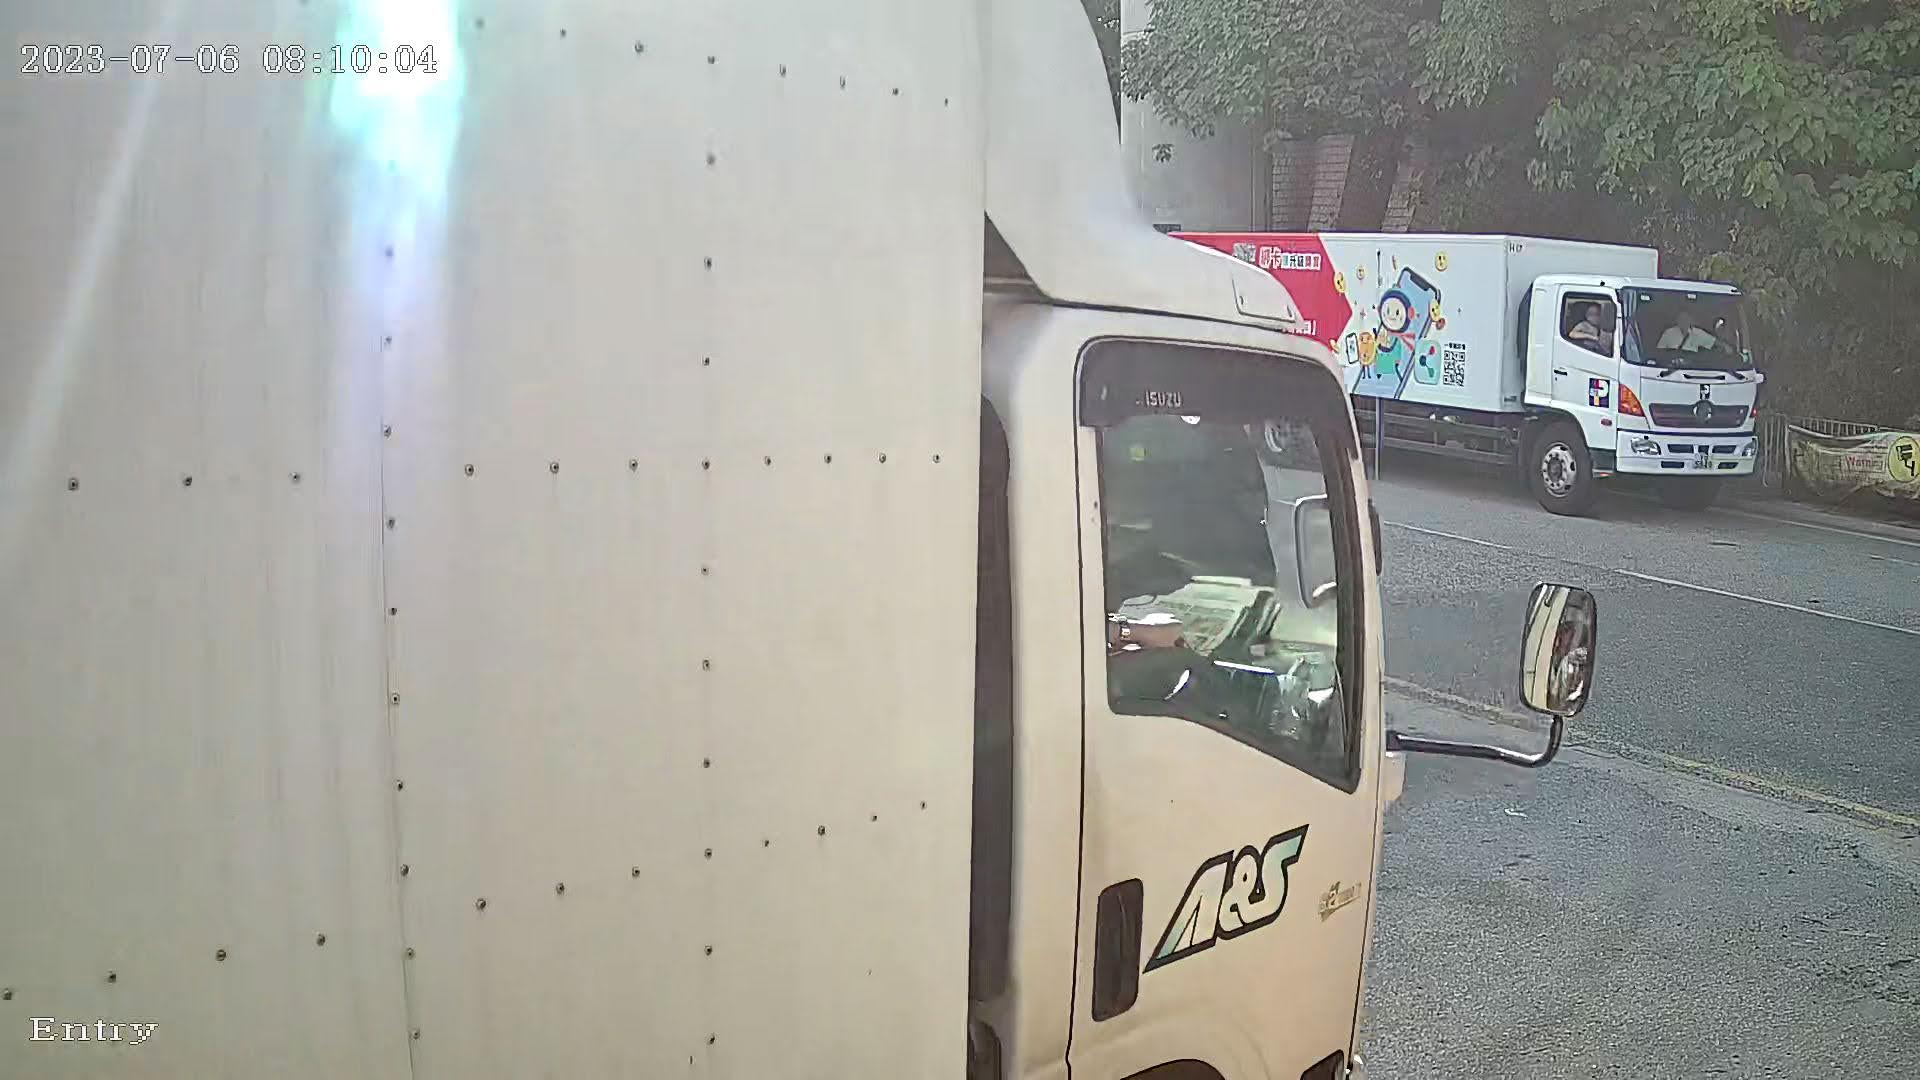truck: (17, 12, 1652, 1080), (1124, 177, 1797, 542)
